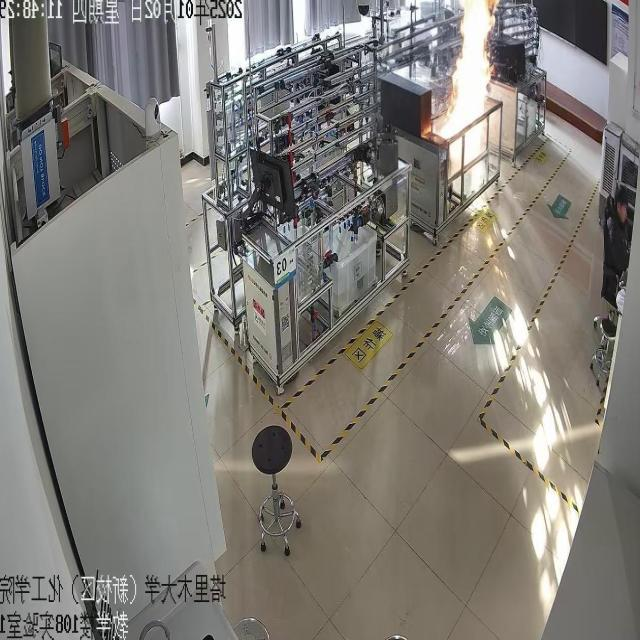smoke: (435, 0, 496, 201)
